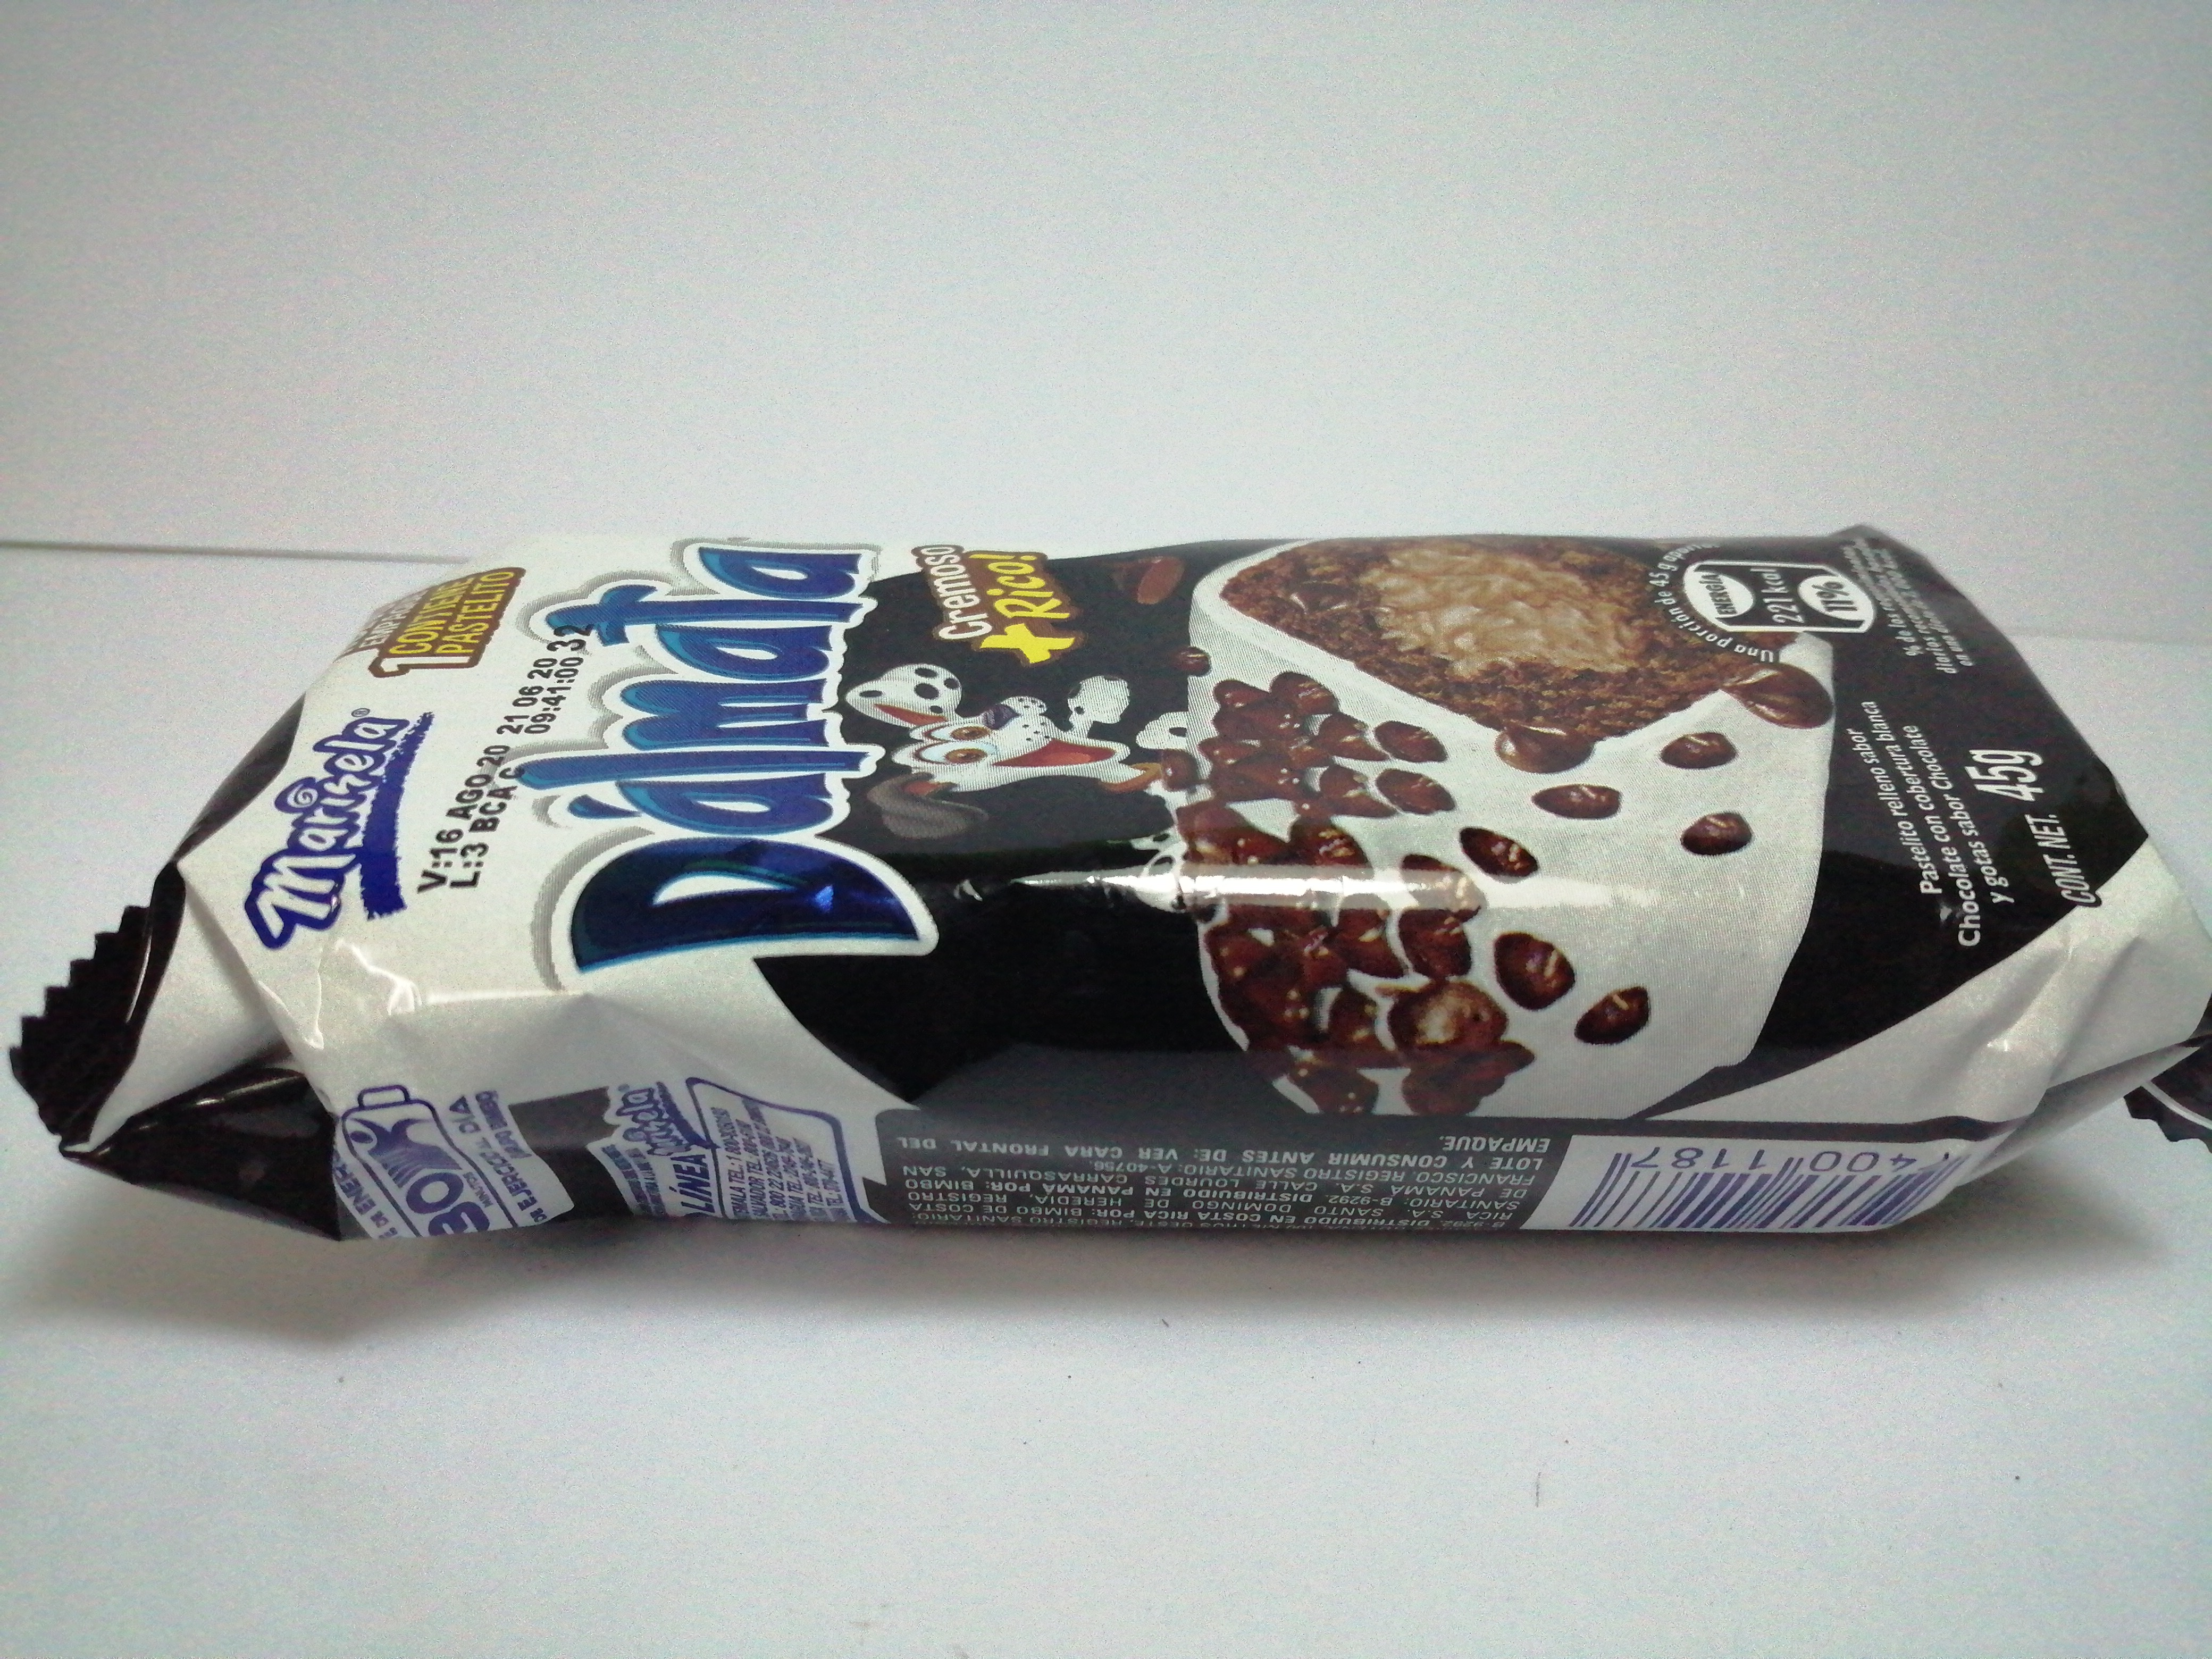dalmata: (10, 479, 2212, 1283)
